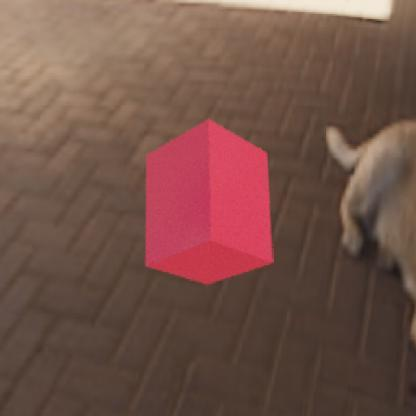cube: (144, 118, 272, 284)
